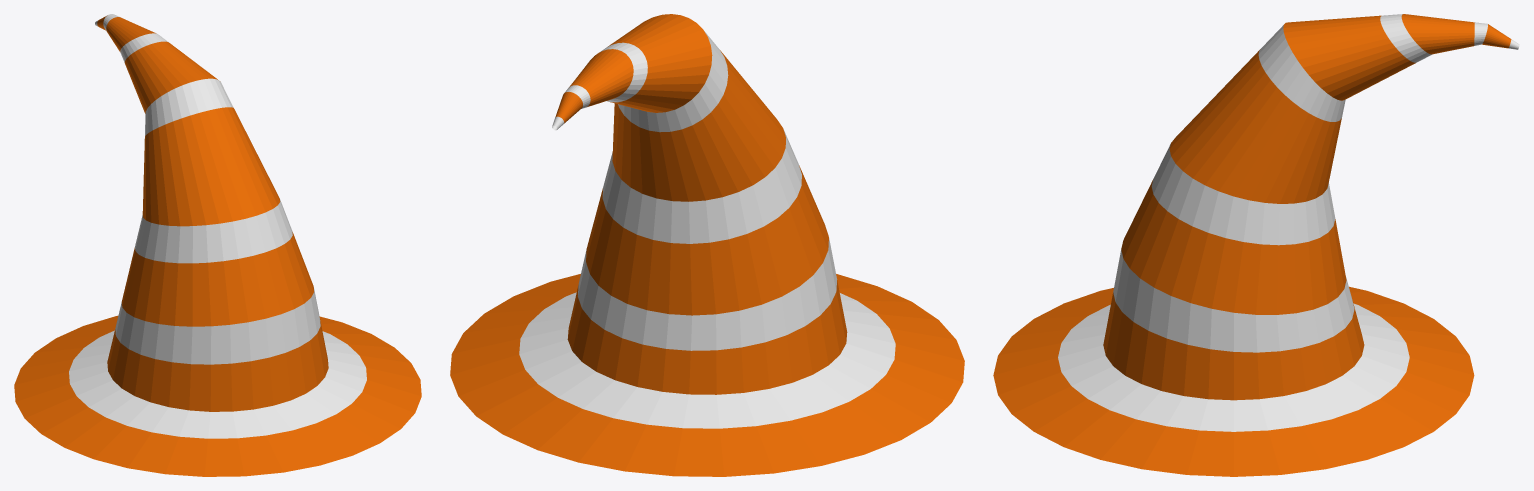
Rendered from TULIP HAT.fbx.
The picture shows the model from 3 angles, left to right: view 1: azimuth 30°, elevation 25°; view 2: azimuth 150°, elevation 25°; view 3: azimuth 270°, elevation 25°; orthographic projection. The views are drawn at different scales.
Visible parts, largest first — view 1: TULIP HAT; view 2: TULIP HAT; view 3: TULIP HAT.
Boxes of the visible parts, left/top/right/bottom form: TULIP HAT: left=14, top=14, right=421, bottom=476; TULIP HAT: left=450, top=14, right=964, bottom=476; TULIP HAT: left=993, top=14, right=1519, bottom=476.
Bounding box in the file's own units: 126 × 103 × 138.
